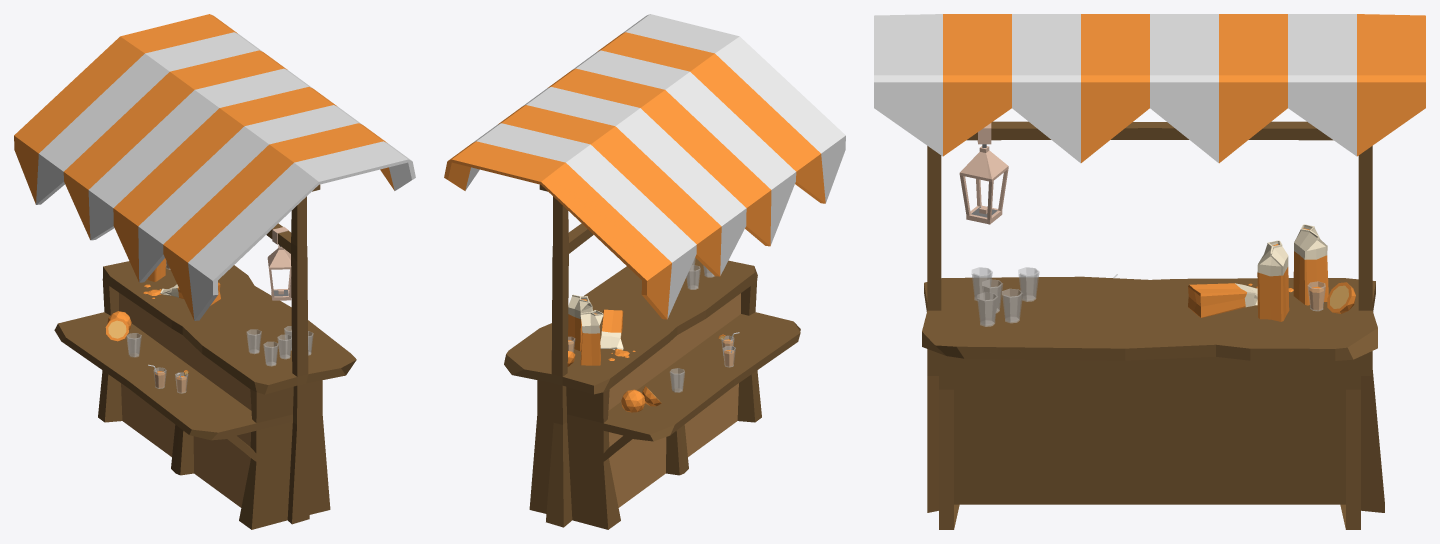
The model's file is stand.fbx.
The picture shows the model from 3 angles, left to right: view 1: azimuth 30°, elevation 25°; view 2: azimuth 150°, elevation 25°; view 3: azimuth 270°, elevation 25°; orthographic projection. The views are drawn at different scales.
Visible parts, largest first — view 1: Plane; view 2: Plane; view 3: Plane.
Part boxes in pixels (<box>): Plane: <box>14,14,415,529</box>; Plane: <box>444,14,845,529</box>; Plane: <box>874,14,1425,529</box>.
Size of the model in its own units: 540 by 866 by 878.
